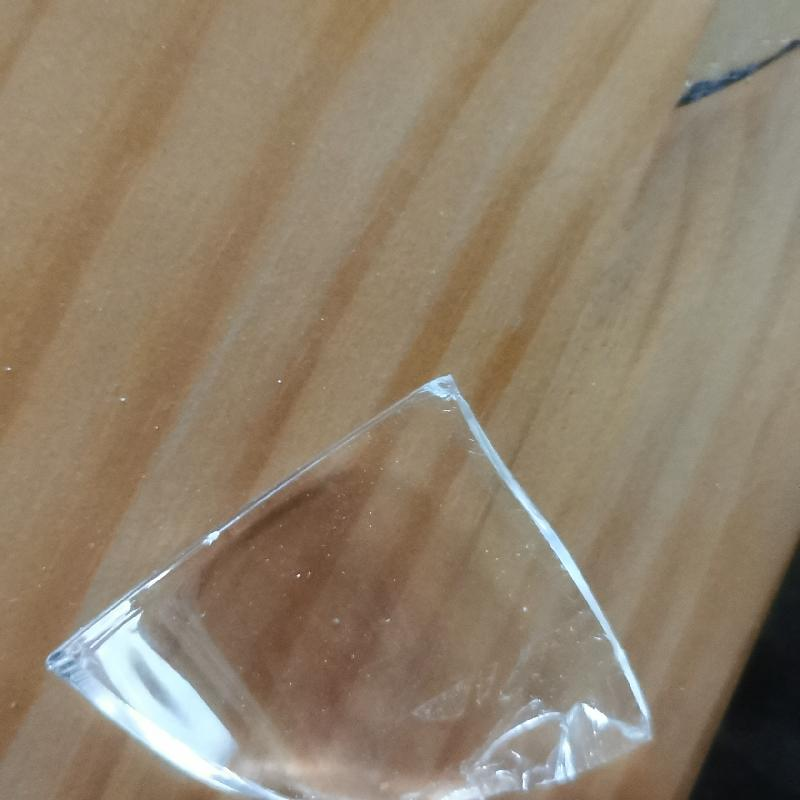glass: (208, 363, 657, 800)
